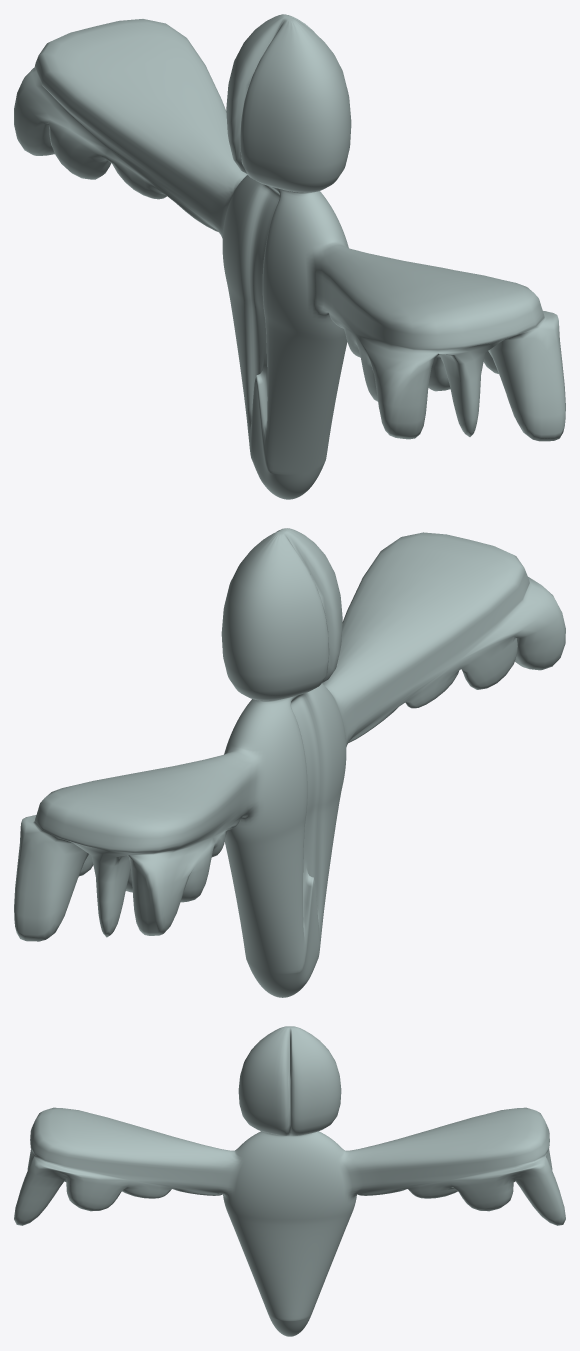
The model's file is Silver Amulet.fbx.
3 renders of one model, top to bottom at view 1: azimuth 30°, elevation 25°; view 2: azimuth 150°, elevation 25°; view 3: azimuth 270°, elevation 25°, orthographic. The views are drawn at different scales.
Parts seen in each view (by area): view 1: pSphere1; view 2: pSphere1; view 3: pSphere1.
Part boxes in pixels (left/top/right/bottom): pSphere1: left=14, top=14, right=565, bottom=499; pSphere1: left=14, top=528, right=565, bottom=997; pSphere1: left=14, top=1026, right=565, bottom=1336.
Bounding box in the file's own units: 1.96 × 4.96 × 8.04.
1 material, 1 textured.
